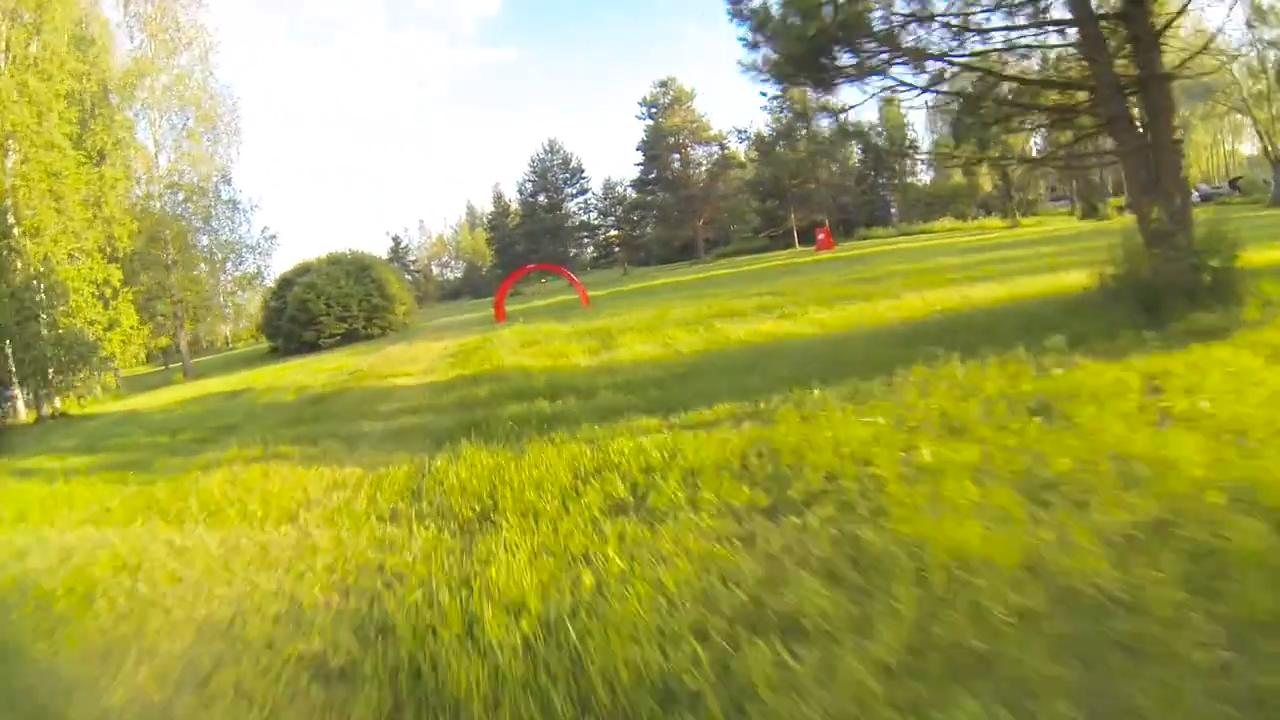gate: (489, 260, 593, 323)
